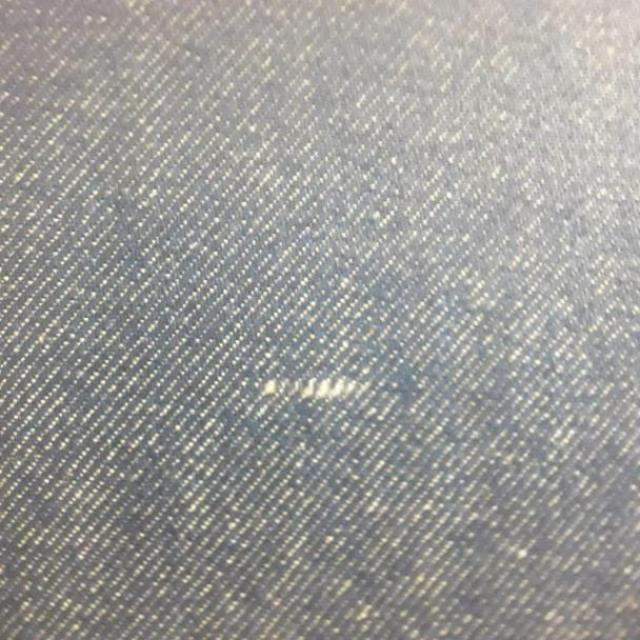Knot: (262, 378, 371, 401)
